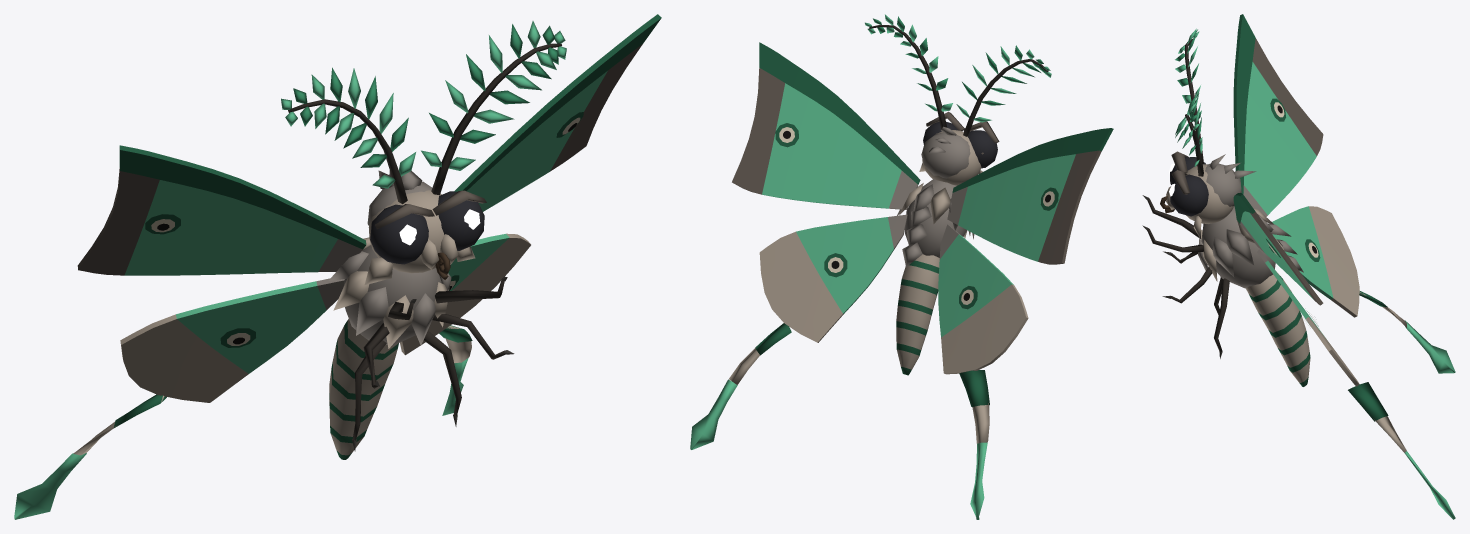
File: moth-moon.glb
The picture shows the model from 3 angles, left to right: view 1: azimuth 30°, elevation 25°; view 2: azimuth 150°, elevation 25°; view 3: azimuth 270°, elevation 25°; orthographic projection. The views are drawn at different scales.
Visible parts, largest first — view 1: glide_wing_1, glide_wing_0, body, sway_feeler_l, sway_feeler_r, turn_head, pulse_abdomen, blink_eye_r, blink_eye_l, wave_tail_r_1, wave_tail_l_0, wave_tail_r_0; view 2: glide_wing_0, glide_wing_1, pulse_abdomen, body, turn_head, sway_feeler_l, sway_feeler_r, wave_tail_r_0, wave_tail_l_1, wave_tail_l_0, blink_eye_r, wave_tail_r_1; view 3: glide_wing_1, body, pulse_abdomen, turn_head, glide_wing_0, blink_eye_l, wave_tail_l_0, sway_feeler_r, sway_feeler_l, wave_tail_r_1, wave_tail_l_1.
Boxes of the visible parts, <box> form: glide_wing_1: <box>77,145,366,402</box>; glide_wing_0: <box>400,14,661,355</box>; body: <box>328,237,514,451</box>; sway_feeler_l: <box>421,21,566,195</box>; sway_feeler_r: <box>281,67,415,204</box>; turn_head: <box>364,170,486,284</box>; pulse_abdomen: <box>329,319,398,459</box>; blink_eye_r: <box>370,204,428,264</box>; blink_eye_l: <box>438,191,484,250</box>; wave_tail_r_1: <box>14,453,86,519</box>; wave_tail_l_0: <box>439,325,472,363</box>; wave_tail_r_0: <box>73,394,166,455</box>; glide_wing_0: <box>732,42,920,342</box>; glide_wing_1: <box>938,128,1113,374</box>; pulse_abdomen: <box>896,254,939,375</box>; body: <box>897,179,974,266</box>; turn_head: <box>919,111,999,185</box>; sway_feeler_l: <box>865,14,952,129</box>; sway_feeler_r: <box>956,45,1051,136</box>; wave_tail_r_0: <box>959,370,989,443</box>; wave_tail_l_1: <box>690,379,737,449</box>; wave_tail_l_0: <box>729,323,791,384</box>; blink_eye_r: <box>968,130,997,168</box>; wave_tail_r_1: <box>970,442,987,519</box>; glide_wing_1: <box>1233,14,1359,317</box>; body: <box>1142,195,1303,358</box>; pulse_abdomen: <box>1246,271,1310,386</box>; turn_head: <box>1160,151,1256,238</box>; glide_wing_0: <box>1233,193,1359,386</box>; blink_eye_l: <box>1169,174,1208,216</box>; wave_tail_l_0: <box>1348,382,1406,452</box>; sway_feeler_r: <box>1175,28,1203,163</box>; sway_feeler_l: <box>1175,92,1203,176</box>; wave_tail_r_1: <box>1405,320,1455,373</box>; wave_tail_l_1: <box>1404,451,1455,519</box>.
Bounding box in the file's own units: 0.7824 × 0.7701 × 0.5718.
